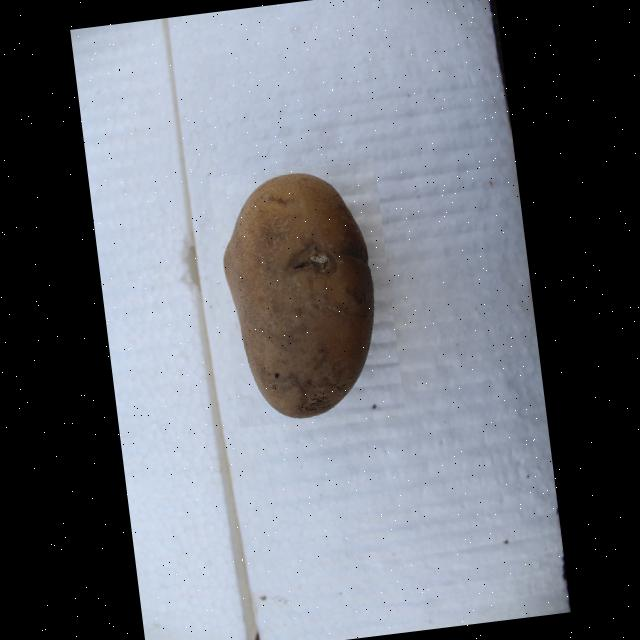Damaged potato: (209, 156, 404, 426)
